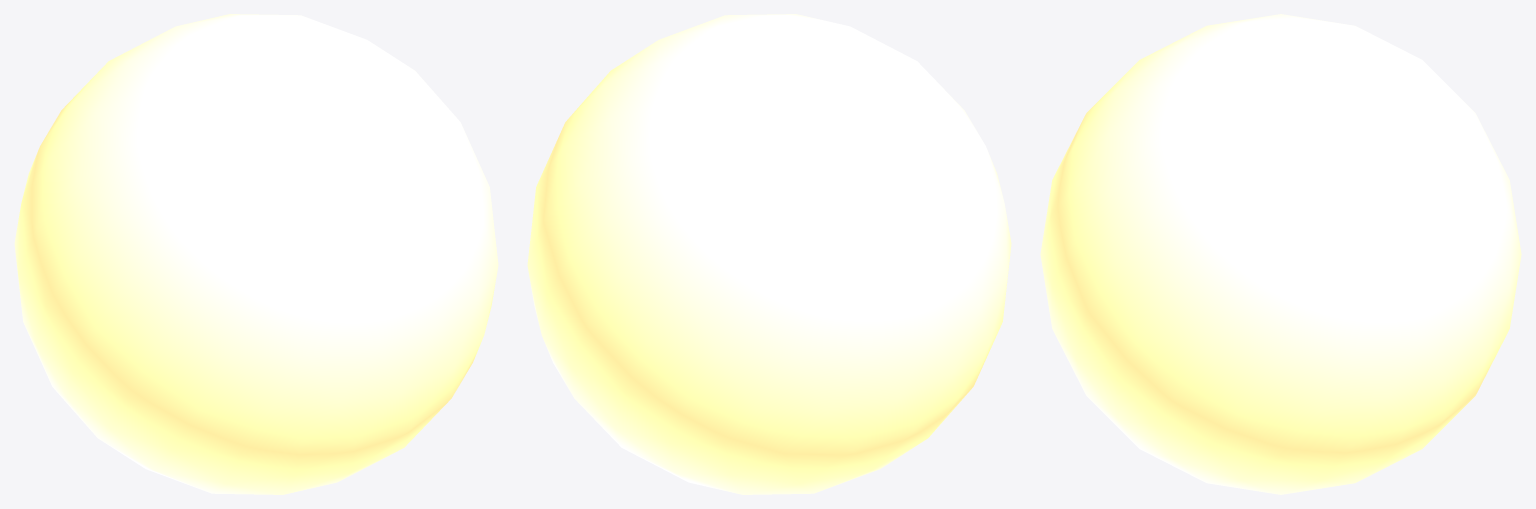
File: glowlights.gltf
3 renders of one model, left to right at view 1: azimuth 30°, elevation 25°; view 2: azimuth 150°, elevation 25°; view 3: azimuth 270°, elevation 25°, orthographic.
Visible parts, largest first — view 1: Icosphere; view 2: Icosphere; view 3: Icosphere.
Part boxes in pixels (x1,y1,x2,y2): Icosphere: (14, 14, 498, 494); Icosphere: (527, 14, 1011, 494); Icosphere: (1040, 14, 1521, 494).
Bounding box in the file's own units: 2 × 2 × 2.
